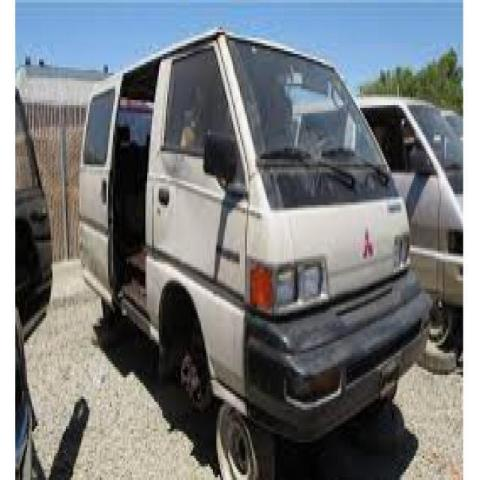van: (75, 28, 431, 477), (349, 85, 464, 375)
